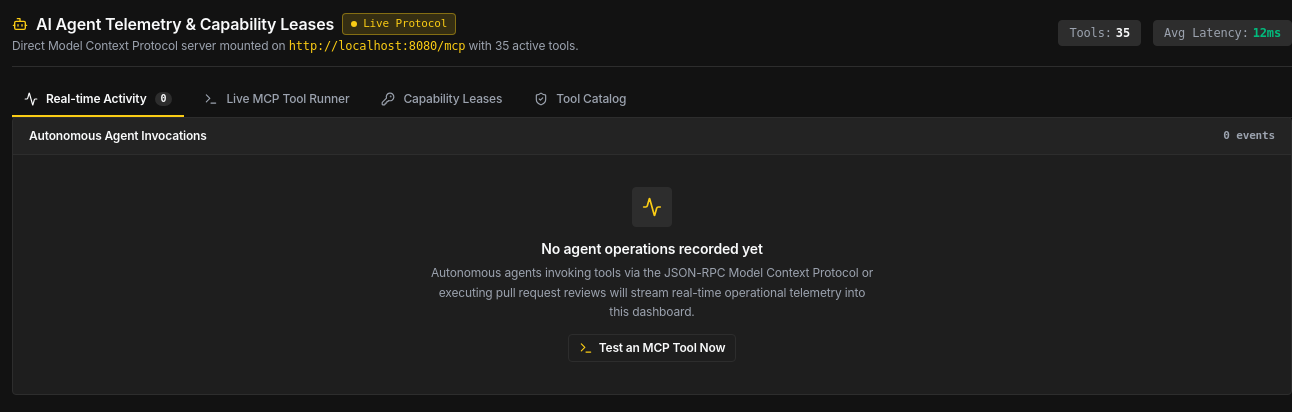
Test: AgentConsoleView Component › switches to Tool Catalog tab and lists MCP primitives
The image size is (1292, 412).
Click the button "Tool Catalog" at (580, 100), box x1=522 y1=83 x2=638 y2=117
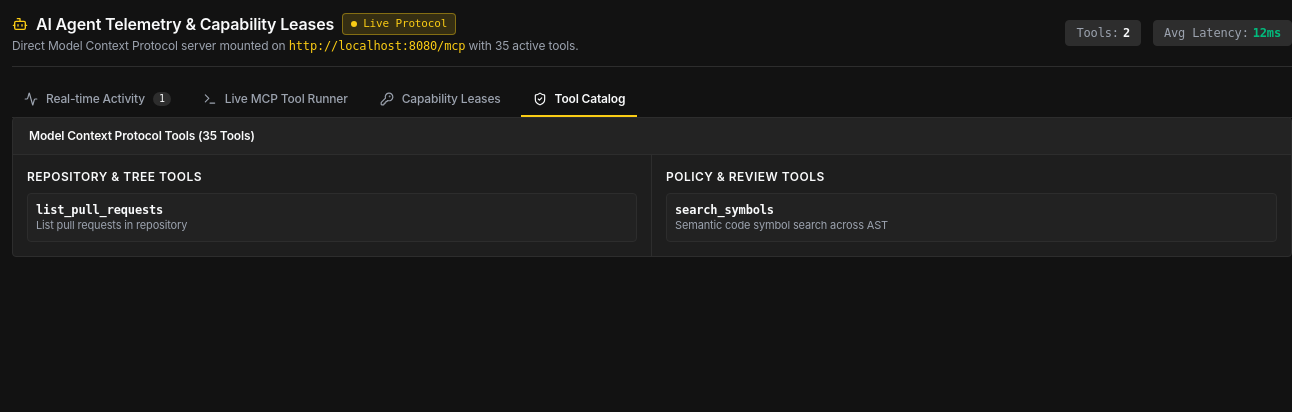
expect the text "Model Context Protocol Tools (35 Tools)" is shown: met, box x1=29 y1=128 x2=255 y2=144
